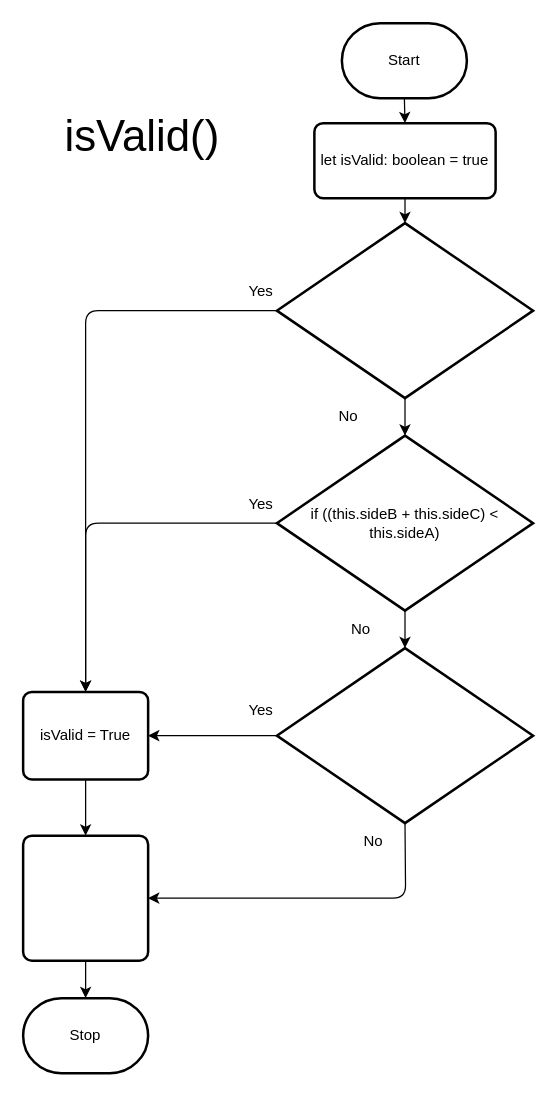
Image size: 555x1095. Some labels were removed from this diagram. The box of each missing label's shape, as (x1, y1, x2, y2) in pixels:
if ((this.sideA + this.sideB) < this.sideC): (275, 221, 534, 399)
if ((this.sideC + this.sideA) < this.sideB): (275, 646, 534, 824)
return isValid: (21, 834, 149, 961)
